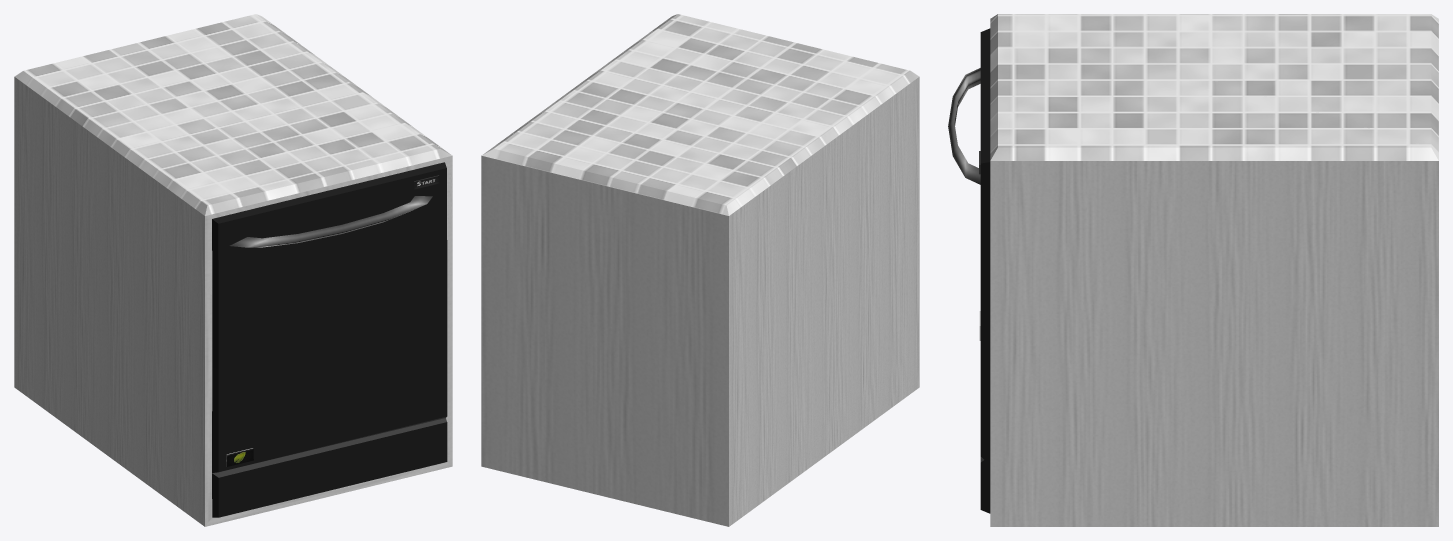
File: Dishwasher_B2.FBX
The picture shows the model from 3 angles, left to right: view 1: azimuth 30°, elevation 25°; view 2: azimuth 150°, elevation 25°; view 3: azimuth 270°, elevation 25°; orthographic projection. The views are drawn at different scales.
Visible parts, largest first — view 1: Dishwasher_1; view 2: Dishwasher_1; view 3: Dishwasher_1.
Part boxes in pixels (x1,y1,x2,y2): Dishwasher_1: [14, 14, 452, 526]; Dishwasher_1: [481, 14, 919, 526]; Dishwasher_1: [948, 14, 1438, 526].
Bounding box in the file's own units: 112 × 138 × 164.
